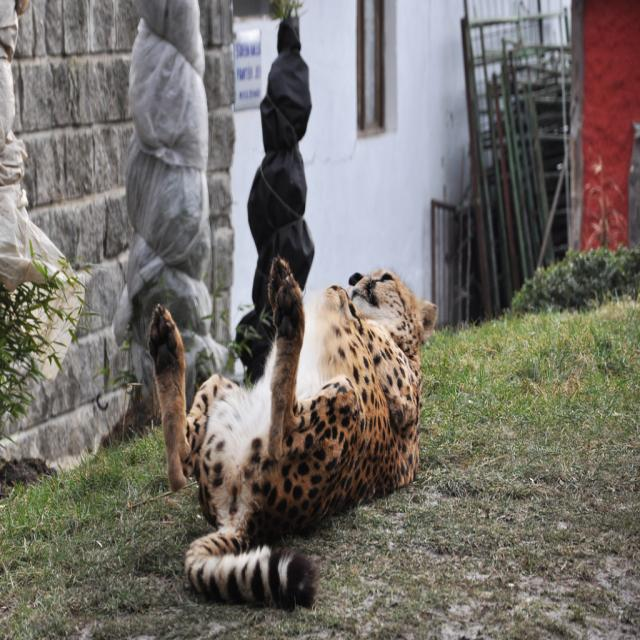Cheetah: (149, 256, 440, 610)
